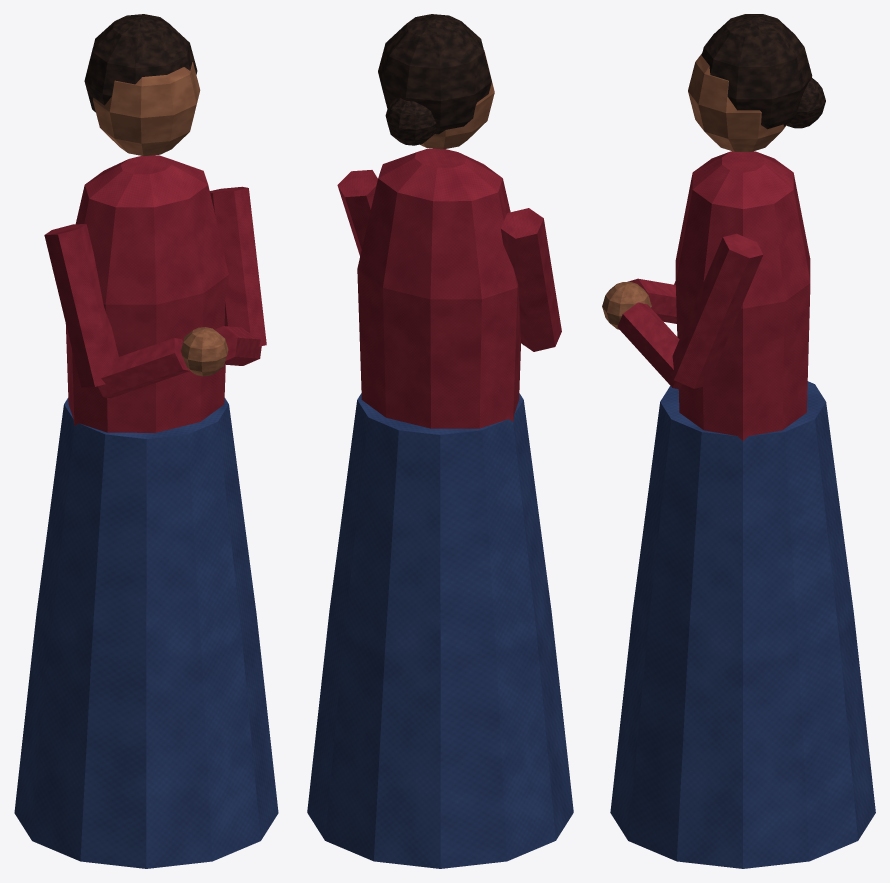
The model's file is persona_mujer2.obj.
The picture shows the model from 3 angles, left to right: view 1: azimuth 30°, elevation 25°; view 2: azimuth 150°, elevation 25°; view 3: azimuth 270°, elevation 25°; orthographic projection.
Visible parts, largest first — view 1: Pieza, Pieza.001, Cylinder, Sphere.003, Sphere.004, Cylinder.002, Cylinder.001, Sphere.002, Cylinder.003; view 2: Pieza, Pieza.001, Sphere.004, Cylinder, Cylinder.002, Sphere.005, Sphere.003; view 3: Pieza, Pieza.001, Sphere.004, Cylinder.002, Sphere.003, Cylinder.003, Sphere.002, Cylinder.001, Sphere.005.
Part boxes in pixels (<box>): Pieza: <box>14,398,278,868</box>; Pieza.001: <box>65,155,228,432</box>; Cylinder: <box>44,224,118,387</box>; Sphere.003: <box>92,62,200,156</box>; Sphere.004: <box>84,14,197,112</box>; Cylinder.002: <box>209,186,266,346</box>; Cylinder.001: <box>98,338,190,398</box>; Sphere.002: <box>181,327,228,376</box>; Cylinder.003: <box>214,326,261,365</box>; Pieza: <box>307,393,573,868</box>; Pieza.001: <box>357,148,520,428</box>; Sphere.004: <box>378,14,491,134</box>; Cylinder: <box>500,208,561,351</box>; Cylinder.002: <box>337,170,377,256</box>; Sphere.005: <box>385,98,436,145</box>; Sphere.003: <box>420,50,494,149</box>; Pieza: <box>610,381,875,868</box>; Pieza.001: <box>675,151,810,440</box>; Sphere.004: <box>701,14,812,129</box>; Cylinder.002: <box>671,233,763,388</box>; Sphere.003: <box>688,53,786,151</box>; Cylinder.003: <box>617,302,686,389</box>; Sphere.002: <box>602,282,651,329</box>; Cylinder.001: <box>627,278,676,323</box>; Sphere.005: <box>787,78,825,128</box>.
Bounding box in the file's own units: 0.48 × 1.63 × 0.495.
5 materials, 5 textured.
